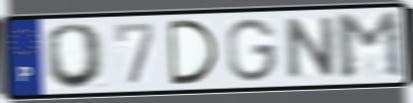7: (110, 20, 157, 87)
D: (165, 18, 223, 88)
G: (224, 17, 280, 84)
M: (331, 10, 408, 82)
N: (284, 14, 338, 82)
O: (44, 21, 108, 91)
